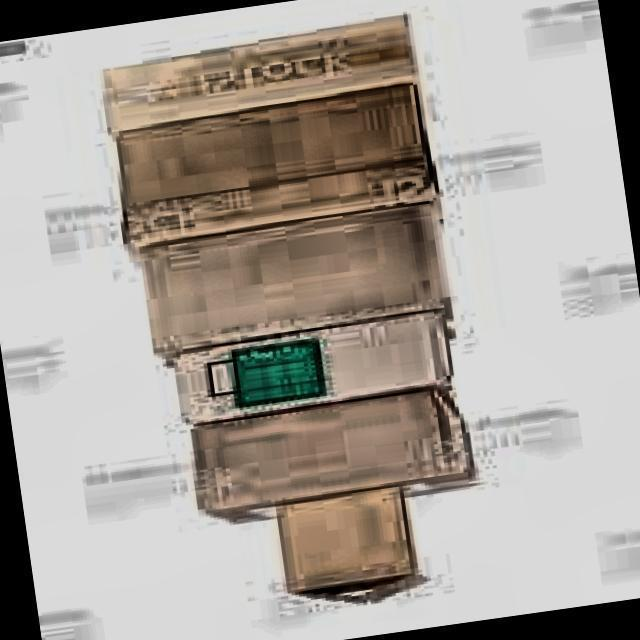cardboard: (94, 15, 499, 634)
